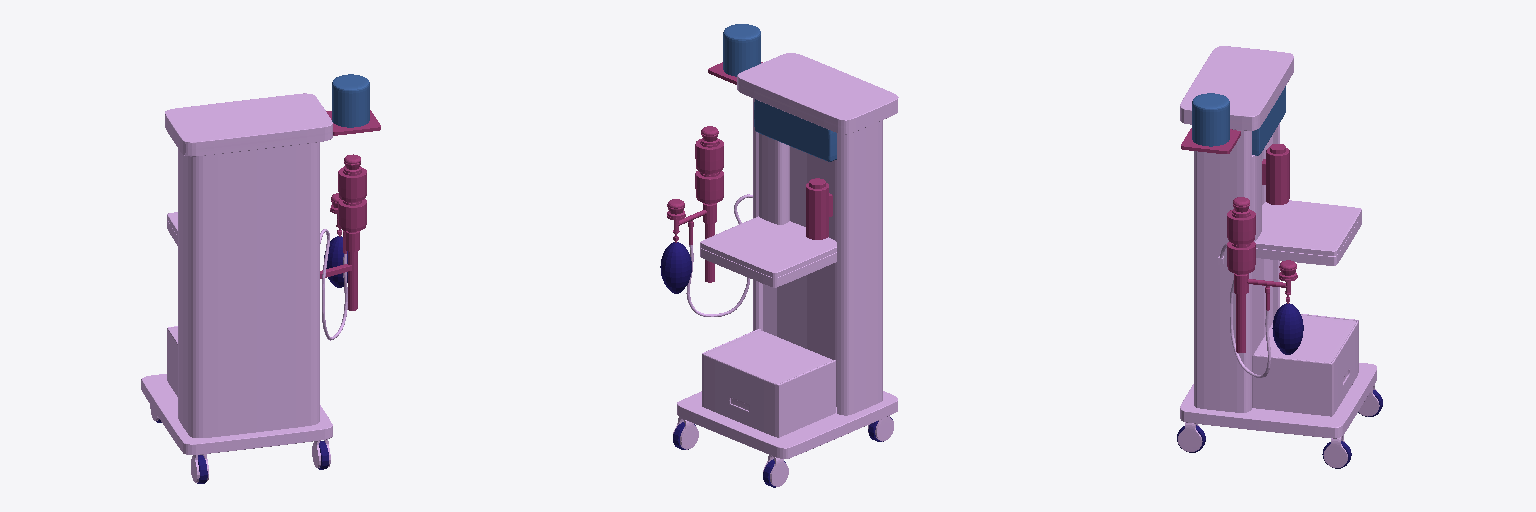
3 views of the same model, side by side, from view 1: azimuth 30°, elevation 25°; view 2: azimuth 150°, elevation 25°; view 3: azimuth 270°, elevation 25° (orthographic).
Visible parts, largest first — view 1: OT_Anesthesia_Machine_OT_Anesthesia_Machine-geom_OP_Plastic, OT_Anesthesia_Machine_OT_Anesthesia_Machine-geom_OP_Metal, OT_Anesthesia_Machine_OT_Anesthesia_Machine-geom_OP_Glass, OT_Anesthesia_Machine_OT_Anesthesia_Machine-geom_OP_Rubber; view 2: OT_Anesthesia_Machine_OT_Anesthesia_Machine-geom_OP_Plastic, OT_Anesthesia_Machine_OT_Anesthesia_Machine-geom_OP_Metal, OT_Anesthesia_Machine_OT_Anesthesia_Machine-geom_OP_Display, OT_Anesthesia_Machine_OT_Anesthesia_Machine-geom_OP_Glass, OT_Anesthesia_Machine_OT_Anesthesia_Machine-geom_OP_Rubber; view 3: OT_Anesthesia_Machine_OT_Anesthesia_Machine-geom_OP_Plastic, OT_Anesthesia_Machine_OT_Anesthesia_Machine-geom_OP_Metal, OT_Anesthesia_Machine_OT_Anesthesia_Machine-geom_OP_Glass, OT_Anesthesia_Machine_OT_Anesthesia_Machine-geom_OP_Rubber, OT_Anesthesia_Machine_OT_Anesthesia_Machine-geom_OP_Display.
Part boxes in pixels (left/top/right/bottom): OT_Anesthesia_Machine_OT_Anesthesia_Machine-geom_OP_Plastic: left=141, top=93, right=347, bottom=482; OT_Anesthesia_Machine_OT_Anesthesia_Machine-geom_OP_Metal: left=320, top=110, right=380, bottom=310; OT_Anesthesia_Machine_OT_Anesthesia_Machine-geom_OP_Glass: left=332, top=74, right=369, bottom=127; OT_Anesthesia_Machine_OT_Anesthesia_Machine-geom_OP_Rubber: left=324, top=236, right=347, bottom=287; OT_Anesthesia_Machine_OT_Anesthesia_Machine-geom_OP_Plastic: left=673, top=53, right=898, bottom=486; OT_Anesthesia_Machine_OT_Anesthesia_Machine-geom_OP_Metal: left=667, top=62, right=832, bottom=282; OT_Anesthesia_Machine_OT_Anesthesia_Machine-geom_OP_Display: left=754, top=99, right=836, bottom=161; OT_Anesthesia_Machine_OT_Anesthesia_Machine-geom_OP_Glass: left=723, top=24, right=760, bottom=76; OT_Anesthesia_Machine_OT_Anesthesia_Machine-geom_OP_Rubber: left=660, top=242, right=691, bottom=293; OT_Anesthesia_Machine_OT_Anesthesia_Machine-geom_OP_Plastic: left=1178, top=46, right=1379, bottom=467; OT_Anesthesia_Machine_OT_Anesthesia_Machine-geom_OP_Metal: left=1181, top=128, right=1297, bottom=352; OT_Anesthesia_Machine_OT_Anesthesia_Machine-geom_OP_Glass: left=1192, top=93, right=1229, bottom=146; OT_Anesthesia_Machine_OT_Anesthesia_Machine-geom_OP_Rubber: left=1272, top=303, right=1303, bottom=354; OT_Anesthesia_Machine_OT_Anesthesia_Machine-geom_OP_Display: left=1252, top=86, right=1285, bottom=155.
Size of the model in its own units: 0.8292 by 1.45 by 0.733.
Materials: 6 (6 with a texture image).